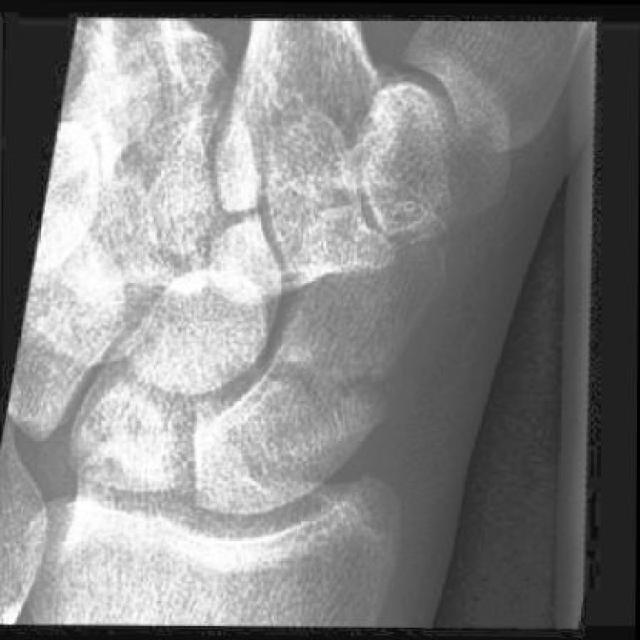Fracture: (252, 340, 410, 421)
